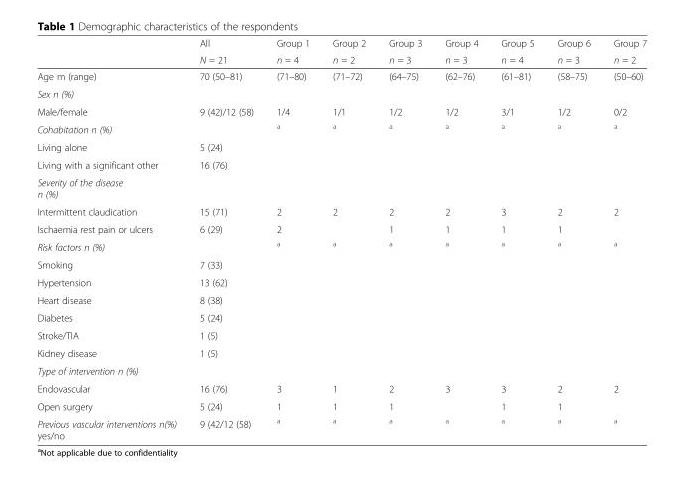table: (36, 37, 646, 440)
table column: (36, 37, 187, 440), (187, 37, 264, 440), (432, 37, 489, 440), (264, 37, 320, 440), (320, 37, 376, 440), (376, 37, 432, 440), (489, 37, 545, 440), (545, 37, 601, 440), (601, 37, 646, 440)
table column header: (36, 37, 646, 67)
table projected row header: (36, 173, 646, 202), (36, 84, 646, 102), (36, 361, 646, 379)
table row: (36, 173, 646, 202), (36, 414, 646, 440), (36, 84, 646, 102), (36, 119, 646, 137), (36, 137, 646, 155), (36, 155, 646, 173), (36, 202, 646, 220), (36, 237, 646, 255), (36, 255, 646, 273), (36, 290, 646, 308), (36, 308, 646, 326), (36, 326, 646, 344), (36, 361, 646, 379), (36, 379, 646, 397), (36, 67, 646, 84), (36, 102, 646, 119), (36, 220, 646, 237), (36, 273, 646, 290), (36, 344, 646, 361), (36, 397, 646, 414), (36, 51, 646, 67), (36, 37, 646, 51)
table spanning cell: (187, 37, 264, 67), (432, 37, 489, 67), (264, 37, 320, 67), (320, 37, 376, 67), (376, 37, 432, 67), (489, 37, 545, 67), (545, 37, 601, 67), (601, 37, 646, 67)
